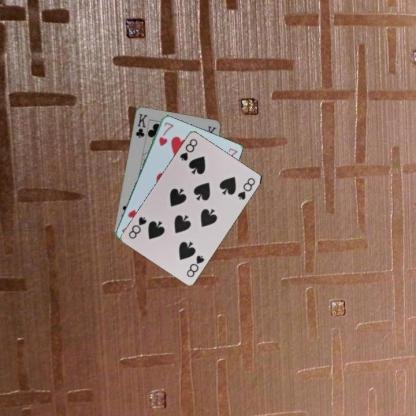7h: (156, 119, 174, 147)
8s: (177, 136, 199, 162), (184, 252, 206, 278)
Kc: (133, 111, 148, 139)
